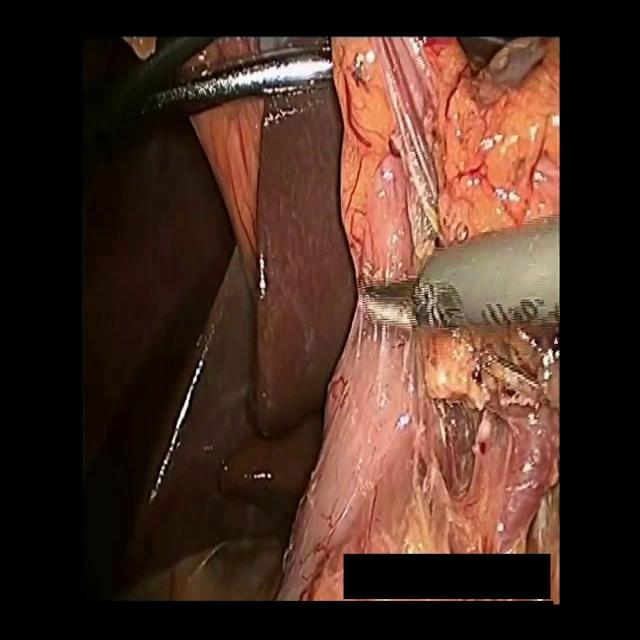surgical-area: (80, 36, 560, 601)
surgical-tool: (82, 36, 330, 165), (358, 212, 560, 340)
